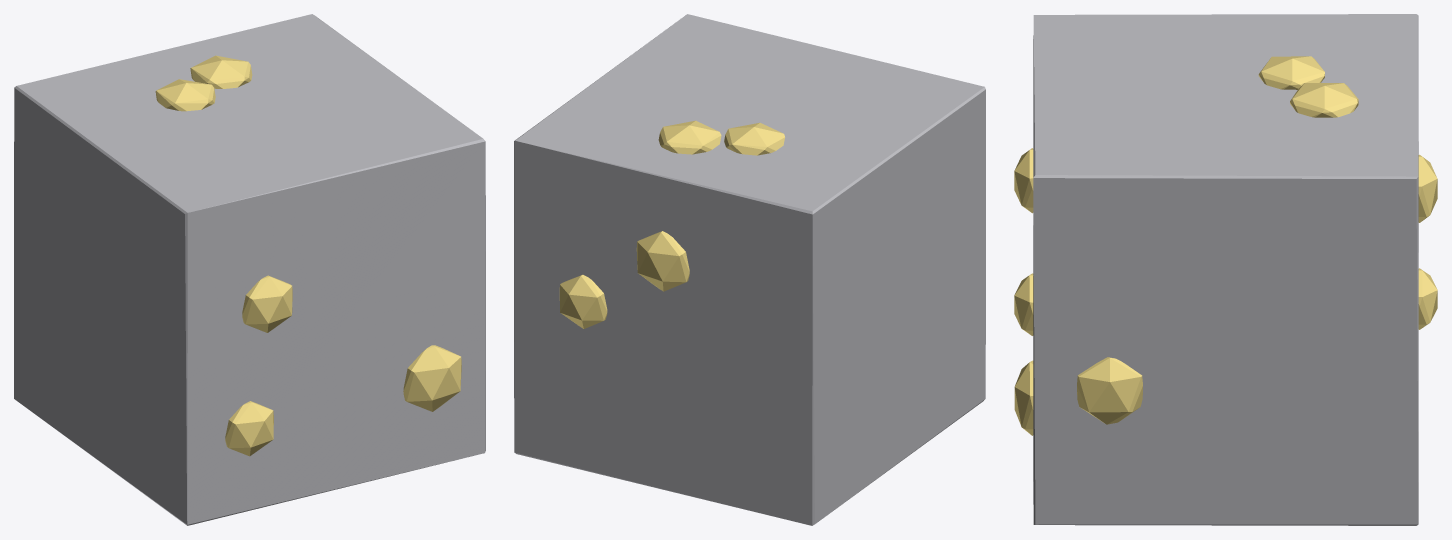
Rendered from ore_gold.glb.
3 renders of one model, left to right at view 1: azimuth 30°, elevation 25°; view 2: azimuth 150°, elevation 25°; view 3: azimuth 270°, elevation 25°, orthographic. The views are drawn at different scales.
Visible parts, largest first — view 1: ore_gold; view 2: ore_gold; view 3: ore_gold.
Part boxes in pixels (x1=…): ore_gold: x1=14, y1=14, x2=485, y2=525; ore_gold: x1=514, y1=14, x2=985, y2=525; ore_gold: x1=1014, y1=14, x2=1437, y2=525.
Size of the model in its own units: 1.04 by 1.05 by 1.09.
